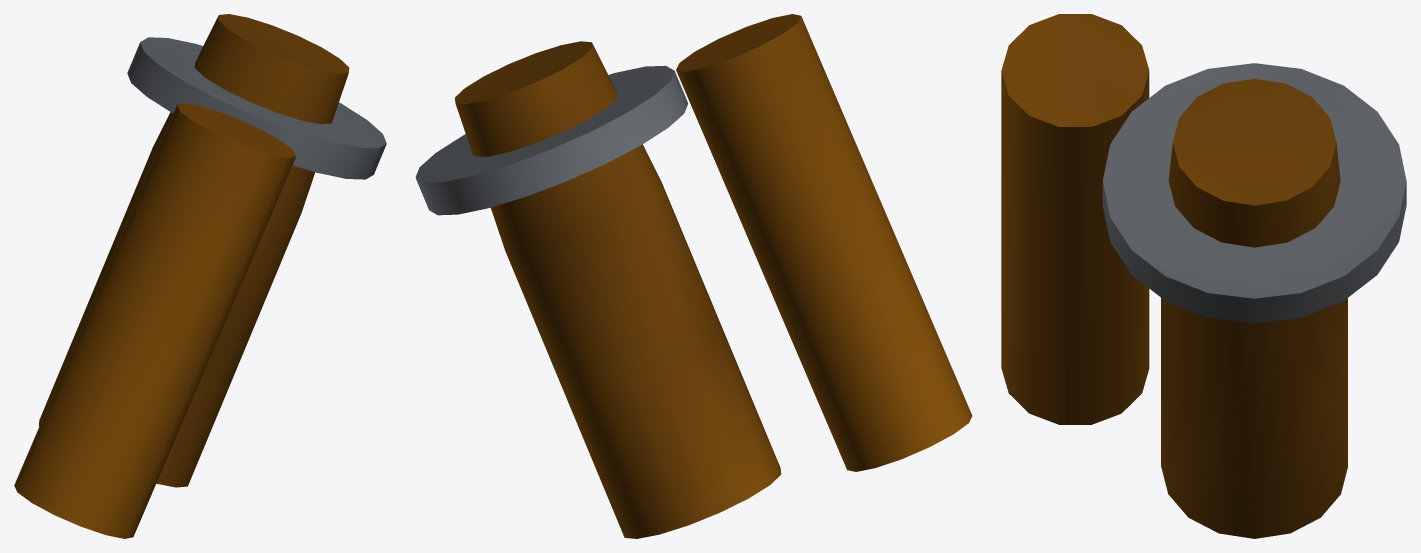
Rendered from bike_duetto_shockU.glb.
3 views of the same model, side by side, from view 1: azimuth 30°, elevation 25°; view 2: azimuth 150°, elevation 25°; view 3: azimuth 270°, elevation 25° (orthographic). The views are drawn at different scales.
Parts seen in each view (by area): view 1: bk_shk_res, bk_shk_body, bk_shk_collarT; view 2: bk_shk_body, bk_shk_res, bk_shk_collarT; view 3: bk_shk_body, bk_shk_res, bk_shk_collarT.
Part boxes in pixels (bbox=[...]): bk_shk_res: bbox=[14, 103, 296, 538]; bk_shk_body: bbox=[39, 14, 349, 487]; bk_shk_collarT: bbox=[127, 37, 386, 179]; bk_shk_body: bbox=[455, 41, 781, 538]; bk_shk_res: bbox=[676, 14, 972, 471]; bk_shk_collarT: bbox=[415, 65, 687, 215]; bk_shk_body: bbox=[1161, 78, 1347, 538]; bk_shk_res: bbox=[1001, 14, 1149, 424]; bk_shk_collarT: bbox=[1102, 63, 1406, 323].
Bounding box in the file's own units: 0.1423 × 0.1383 × 0.104.
